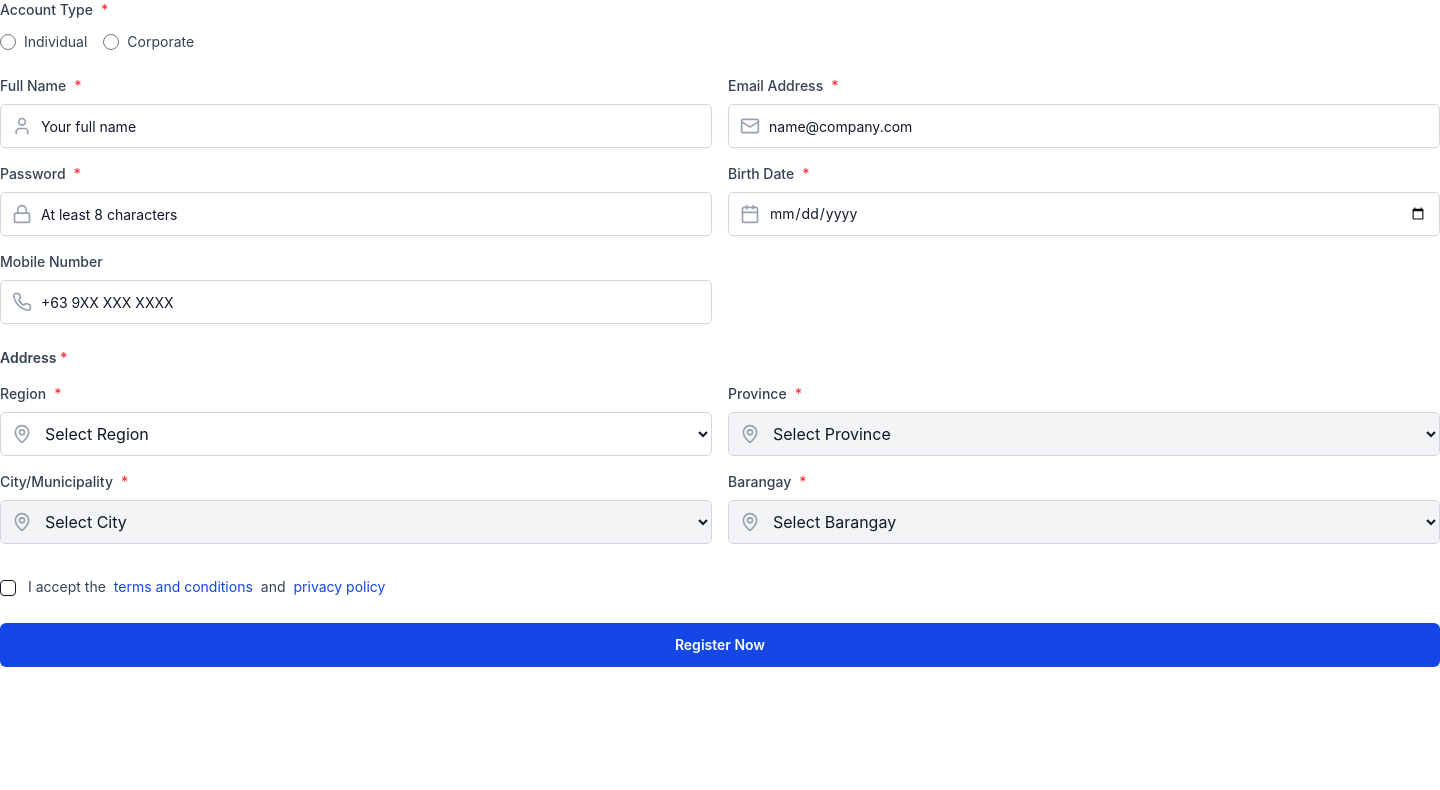
Registration Form Component - TEST SUITE 5 › Test 2: Corporate Account Form Rendering › should show Required Documents section header
Click the radio button labelled "Corporate": click(111, 42) [103, 34, 119, 50]
(page scrolled)
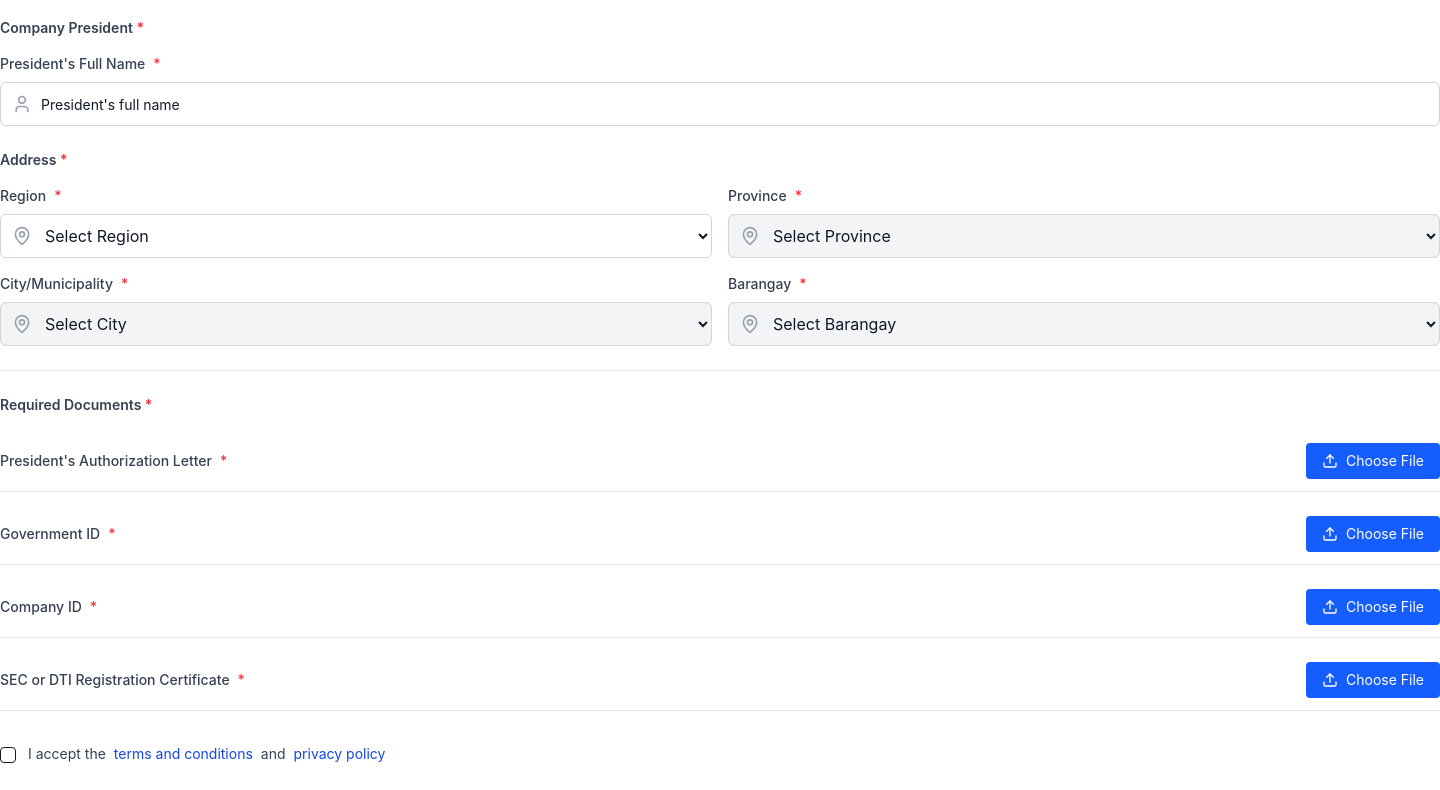
Now the heading "Required Documents *" is shown, box [0, 396, 152, 413]
